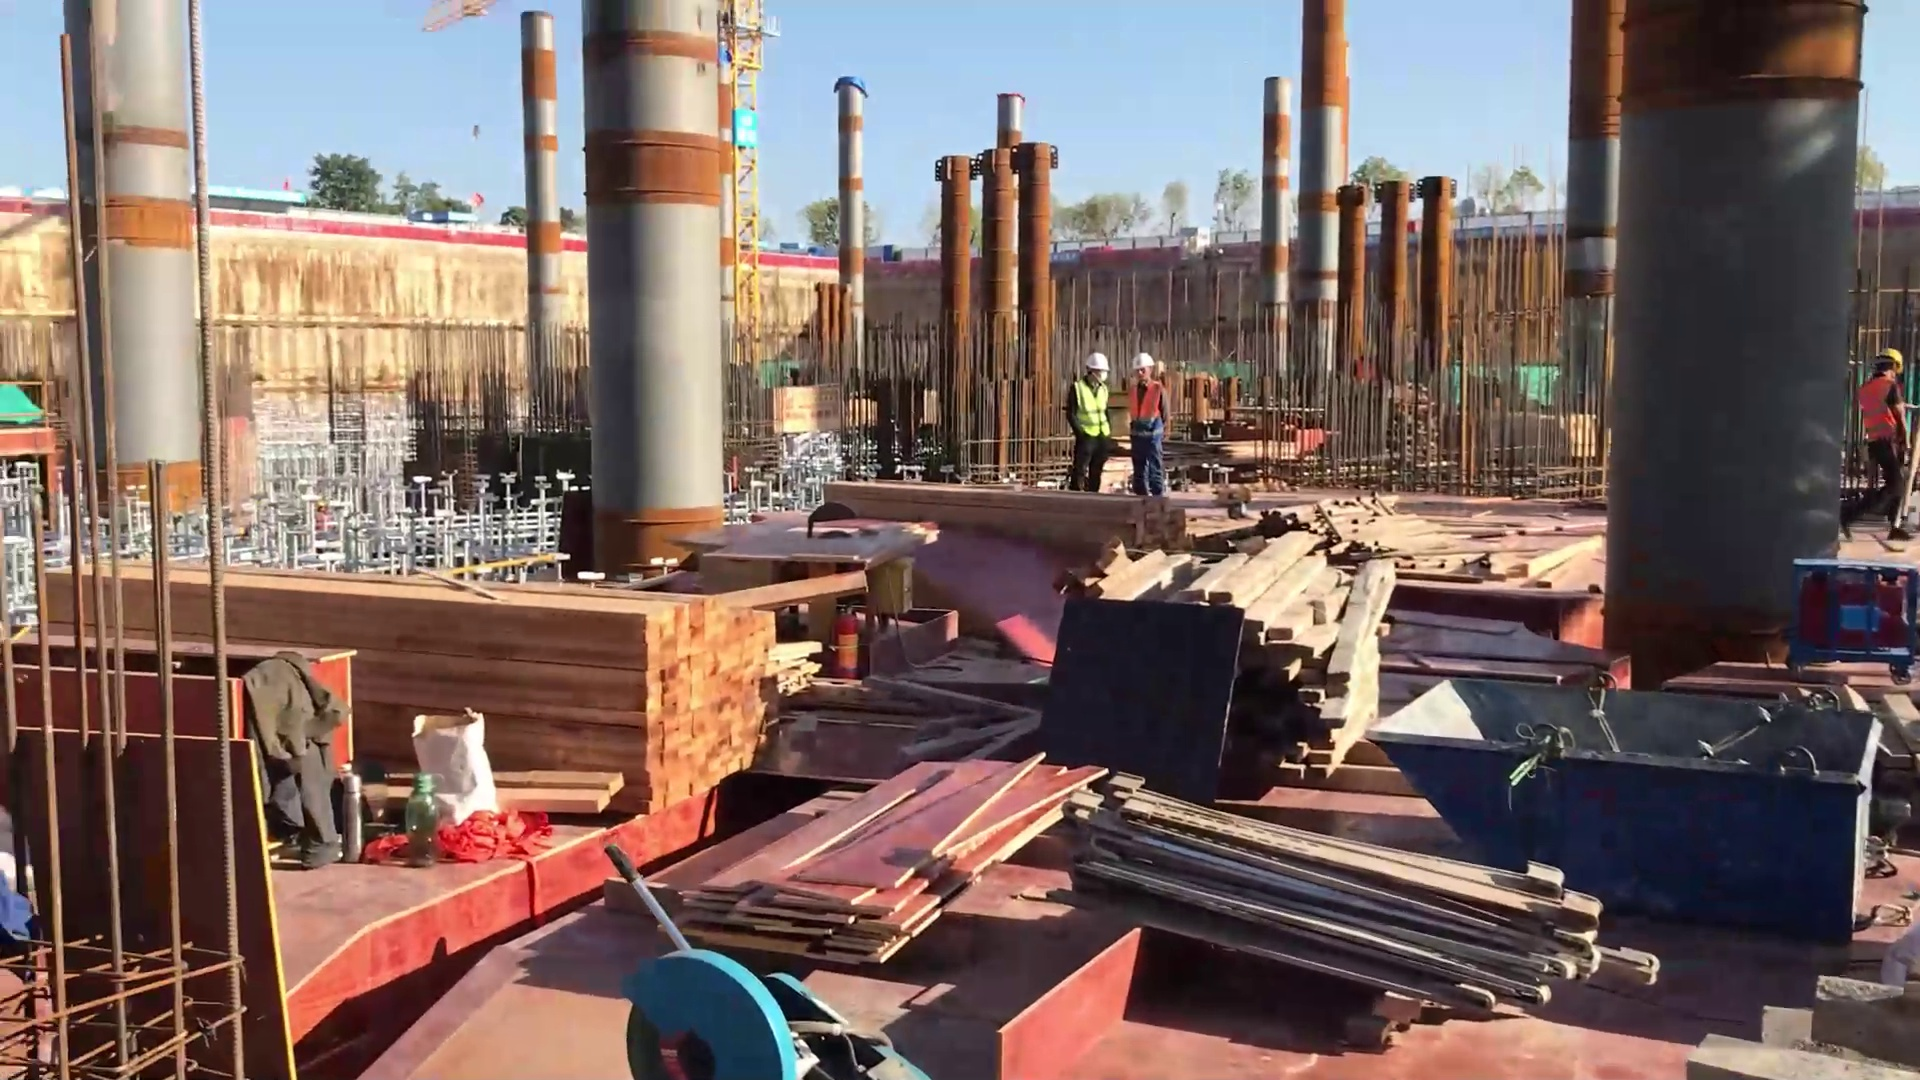board: (674, 745, 1117, 976)
cutter: (581, 828, 949, 1080)
helmet: (1872, 346, 1904, 374), (1081, 350, 1113, 377), (1130, 352, 1156, 374)
hopper: (1374, 669, 1884, 962)
person: (1845, 343, 1916, 546), (1059, 348, 1119, 497), (1123, 350, 1178, 501)
vest: (1849, 375, 1908, 444), (1066, 377, 1117, 440), (1124, 380, 1170, 443)
wood: (38, 545, 788, 812), (1074, 517, 1419, 783), (807, 467, 1210, 605)
